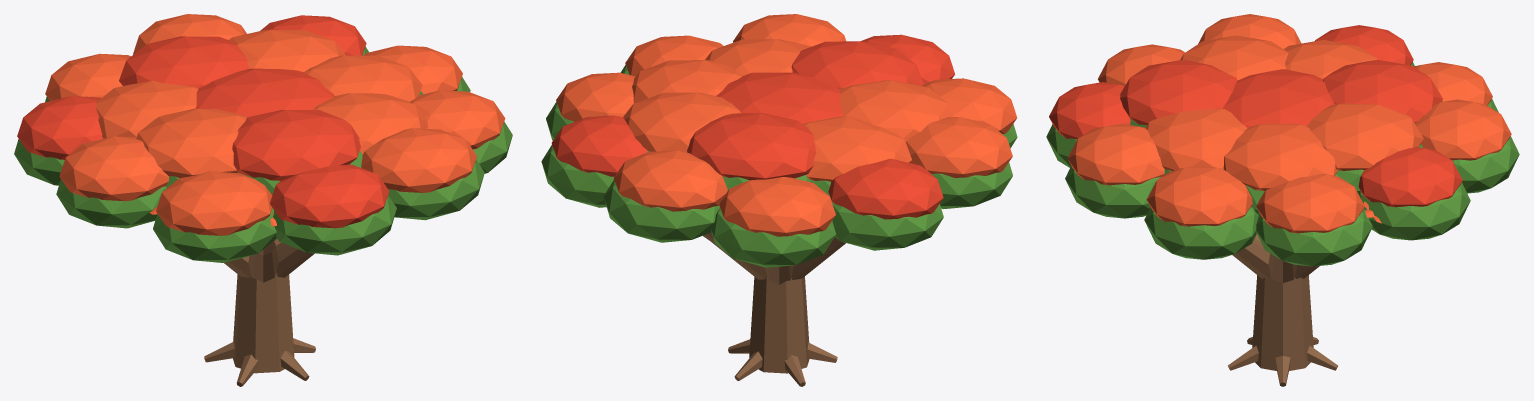
File: tree-poinciana.glb
The picture shows the model from 3 angles, left to right: view 1: azimuth 30°, elevation 25°; view 2: azimuth 150°, elevation 25°; view 3: azimuth 270°, elevation 25°; orthographic projection. The views are drawn at different scales.
Visible parts, largest first — view 1: Orange red flower canopy.006, Orange red flower canopy.014, Orange red flower canopy.015, Orange red flower canopy.016, Orange red flower canopy.005, Orange red flower canopy.013, Short thick poinciana trunk, Orange red flower canopy.003, Orange red flower canopy, Orange red flower canopy.012, Orange red flower canopy.004, Orange red flower canopy.001 (+16 smaller); view 2: Orange red flower canopy.003, Orange red flower canopy.011, Orange red flower canopy.010, Orange red flower canopy.012, Orange red flower canopy.013, Short thick poinciana trunk, Orange red flower canopy, Orange red flower canopy.006, Orange red flower canopy.002, Orange red flower canopy.005, Orange red flower canopy.004, Orange red flower canopy.009 (+16 smaller); view 3: Orange red flower canopy.001, Orange red flower canopy.002, Orange red flower canopy.006, Orange red flower canopy.017, Orange red flower canopy.008, Short thick poinciana trunk, Orange red flower canopy, Orange red flower canopy.003, Orange red flower canopy.009, Orange red flower canopy.016, Orange red flower canopy.007, Orange red flower canopy.010 (+15 smaller).
Boxes of the visible parts, <box> form: Orange red flower canopy.006: <box>232,110,360,180</box>; Orange red flower canopy.014: <box>156,171,272,235</box>; Orange red flower canopy.015: <box>270,164,389,228</box>; Orange red flower canopy.016: <box>361,128,477,192</box>; Orange red flower canopy.005: <box>136,108,247,178</box>; Orange red flower canopy.013: <box>59,136,168,201</box>; Short thick poinciana trunk: <box>233,272,294,373</box>; Orange red flower canopy.003: <box>119,36,248,88</box>; Orange red flower canopy: <box>195,68,334,116</box>; Orange red flower canopy.012: <box>17,96,103,159</box>; Orange red flower canopy.004: <box>95,80,198,138</box>; Orange red flower canopy.001: <box>304,55,422,102</box>; Orange red flower canopy.003: <box>687,113,816,180</box>; Orange red flower canopy.011: <box>719,177,835,236</box>; Orange red flower canopy.010: <box>614,150,727,211</box>; Orange red flower canopy.012: <box>828,158,943,219</box>; Orange red flower canopy.013: <box>905,117,1012,177</box>; Short thick poinciana trunk: <box>749,275,809,373</box>; Orange red flower canopy: <box>716,72,843,123</box>; Orange red flower canopy.006: <box>791,41,923,89</box>; Orange red flower canopy.002: <box>623,92,740,152</box>; Orange red flower canopy.005: <box>839,80,953,141</box>; Orange red flower canopy.004: <box>803,116,911,181</box>; Orange red flower canopy.009: <box>551,115,647,176</box>; Orange red flower canopy.001: <box>1223,124,1337,190</box>; Orange red flower canopy.002: <box>1307,103,1423,170</box>; Orange red flower canopy.006: <box>1120,60,1237,124</box>; Orange red flower canopy.017: <box>1146,167,1252,226</box>; Orange red flower canopy.008: <box>1256,174,1364,233</box>; Short thick poinciana trunk: <box>1252,275,1313,370</box>; Orange red flower canopy: <box>1223,69,1334,127</box>; Orange red flower canopy.003: <box>1323,59,1442,123</box>; Orange red flower canopy.009: <box>1358,147,1462,207</box>; Orange red flower canopy.016: <box>1067,123,1164,185</box>; Orange red flower canopy.007: <box>1146,108,1247,170</box>; Orange red flower canopy.010: <box>1415,99,1511,160</box>.
Size of the model in its own units: 3.5 by 2.25 by 3.47.
